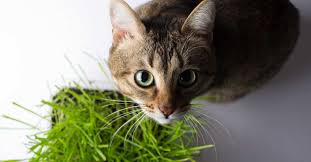Gato: (99, 1, 238, 134)
